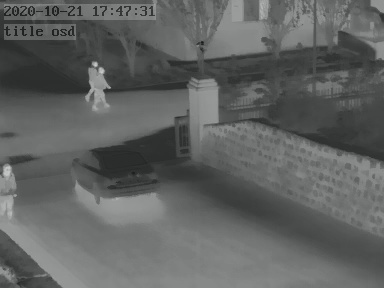person: (85, 58, 109, 109), (1, 162, 19, 223)
vehicle: (74, 142, 159, 205)
